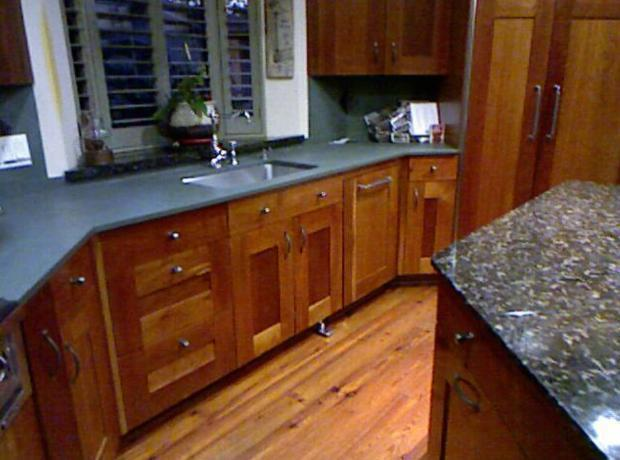Armario: (470, 3, 615, 284)
Lavaplatos: (172, 99, 324, 207)
